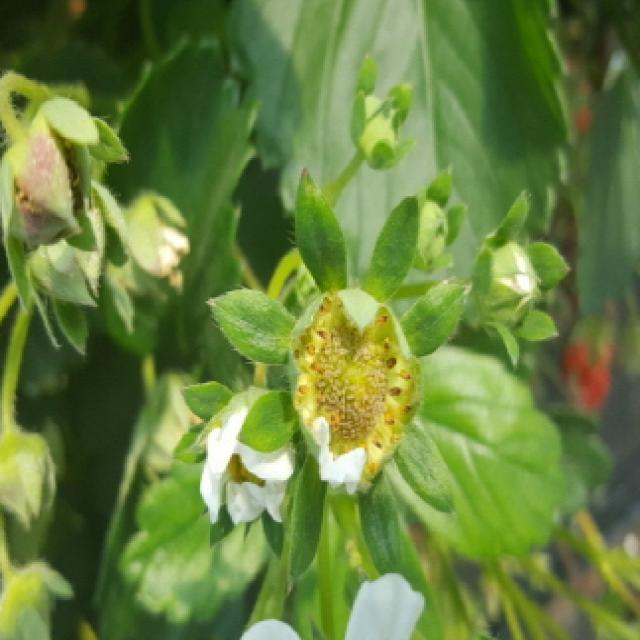Blossom Blight: (287, 296, 419, 479)
